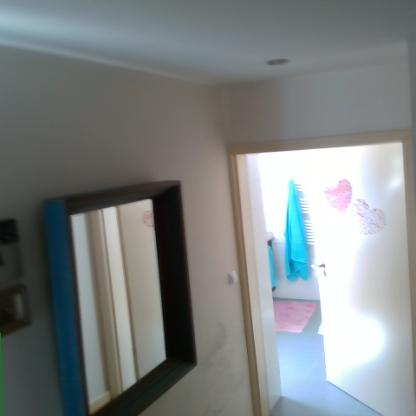semi: (222, 121, 413, 416)
